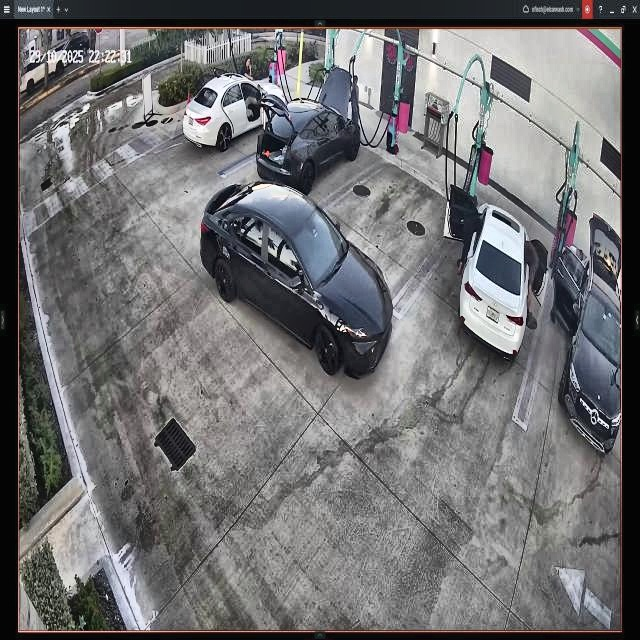Car: (200, 177, 394, 380), (441, 181, 548, 361), (257, 68, 361, 202), (184, 70, 285, 152)
